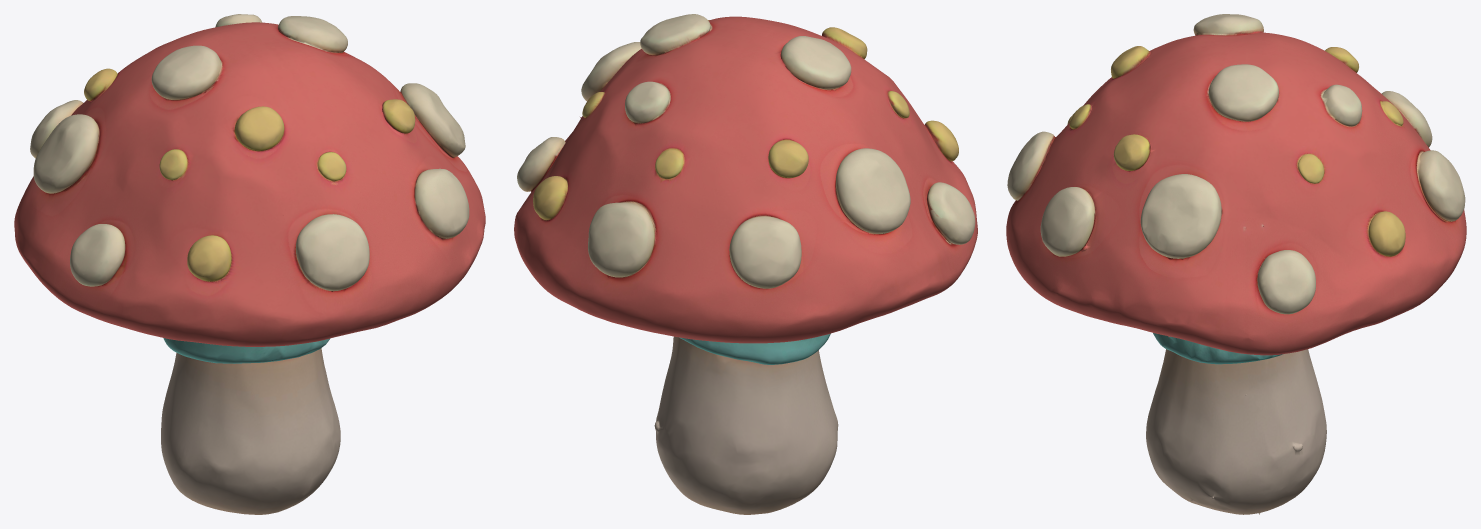
The model's file is mushroom.glb.
3 renders of one model, left to right at view 1: azimuth 30°, elevation 25°; view 2: azimuth 150°, elevation 25°; view 3: azimuth 270°, elevation 25°, orthographic. The views are drawn at different scales.
Visible parts, largest first — view 1: tripo_node_7b804595-11d7-4e65-876f-2c90e6760fa7; view 2: tripo_node_7b804595-11d7-4e65-876f-2c90e6760fa7; view 3: tripo_node_7b804595-11d7-4e65-876f-2c90e6760fa7.
Boxes of the visible parts, left/top/right/bottom form: tripo_node_7b804595-11d7-4e65-876f-2c90e6760fa7: left=14, top=14, right=485, bottom=514; tripo_node_7b804595-11d7-4e65-876f-2c90e6760fa7: left=514, top=14, right=977, bottom=514; tripo_node_7b804595-11d7-4e65-876f-2c90e6760fa7: left=1006, top=14, right=1466, bottom=514.
Size of the model in its own units: 0.8837 by 0.9801 by 0.8903.
Materials: 1 (1 with a texture image).
